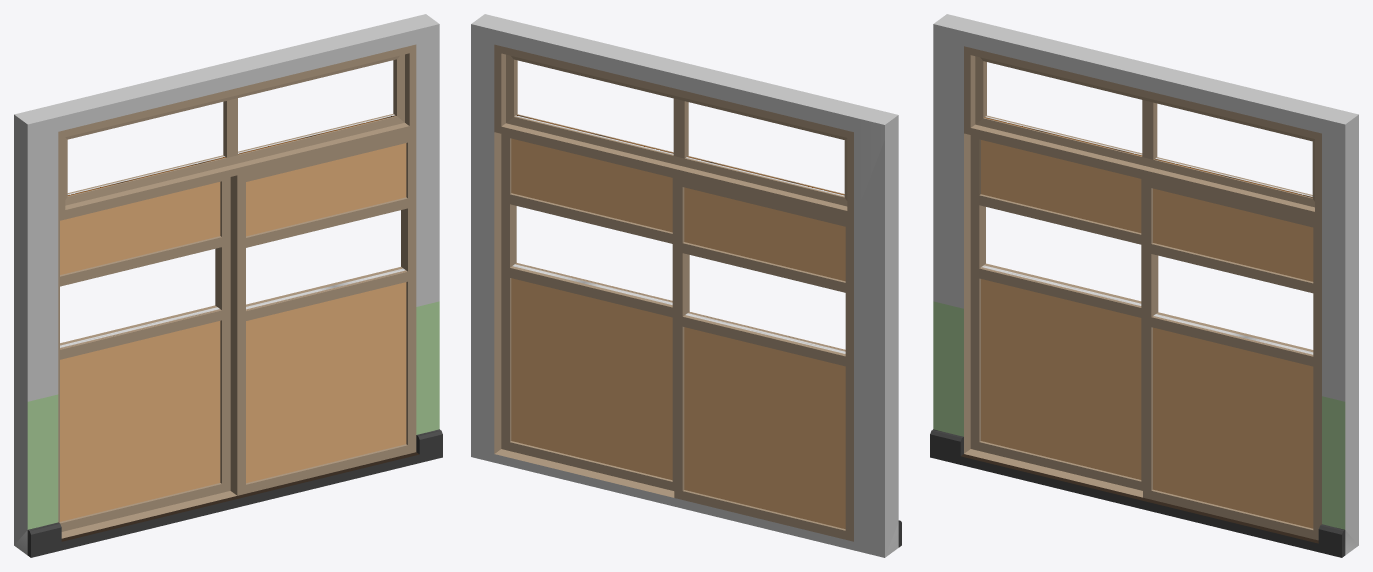
The model's file is School_Door.fbx.
The picture shows the model from 3 angles, left to right: view 1: azimuth 30°, elevation 25°; view 2: azimuth 150°, elevation 25°; view 3: azimuth 330°, elevation 25°; orthographic projection.
Visible parts, largest first — view 1: School_Door.001, Mirror.005; view 2: School_Door.001, Mirror.005; view 3: School_Door.001, Mirror.005.
Part boxes in pixels (left/top/right/bottom): School_Door.001: left=14, top=14, right=442, bottom=557; Mirror.005: left=60, top=114, right=405, bottom=348; School_Door.001: left=471, top=14, right=901, bottom=557; Mirror.005: left=513, top=115, right=845, bottom=353; School_Door.001: left=930, top=14, right=1358, bottom=557; Mirror.005: left=981, top=116, right=1313, bottom=355.
Bounding box in the file's own units: 250 × 250 × 17.83.
